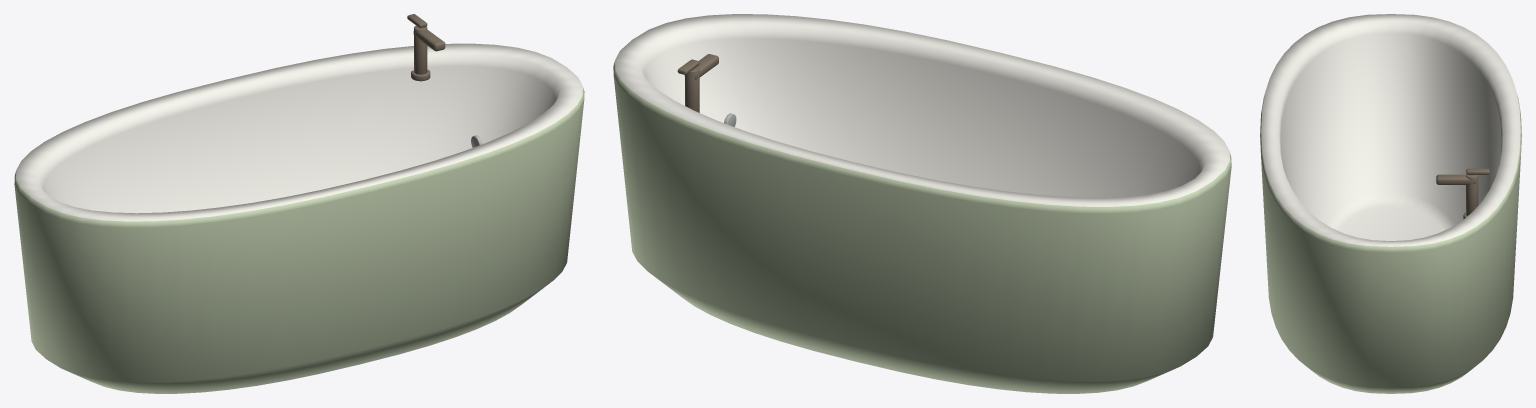
File: oval-freestanding-tub.glb
3 renders of one model, left to right at view 1: azimuth 30°, elevation 25°; view 2: azimuth 150°, elevation 25°; view 3: azimuth 270°, elevation 25°, orthographic. The views are drawn at different scales.
Parts seen in each view (by area): view 1: oval-freestanding-tub; view 2: oval-freestanding-tub; view 3: oval-freestanding-tub.
Part boxes in pixels (left/top/right/bottom): oval-freestanding-tub: left=14, top=14, right=584, bottom=393; oval-freestanding-tub: left=613, top=14, right=1231, bottom=393; oval-freestanding-tub: left=1260, top=14, right=1521, bottom=393.
Size of the model in its own units: 1.65 by 0.66 by 0.78.
